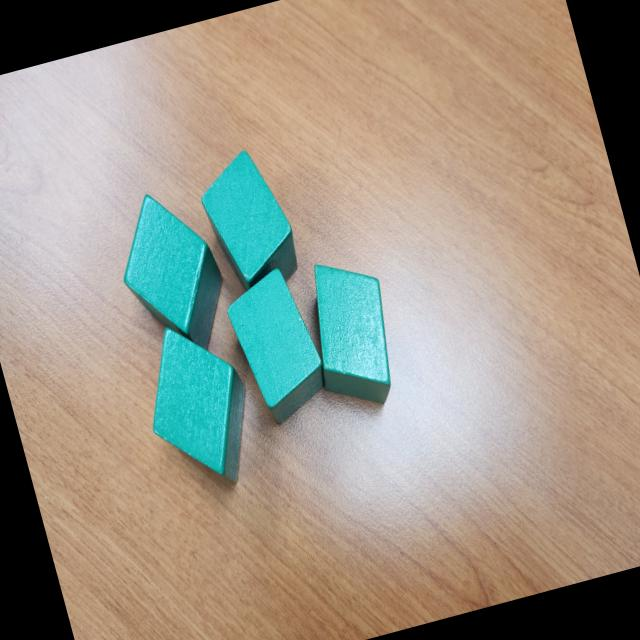green: (101, 178, 241, 368), (128, 312, 266, 494), (292, 248, 411, 418), (218, 262, 336, 430), (191, 142, 306, 300)
